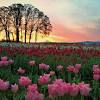flower: (1, 45, 98, 100)
sky: (51, 1, 100, 43)
tree: (1, 5, 54, 43)
